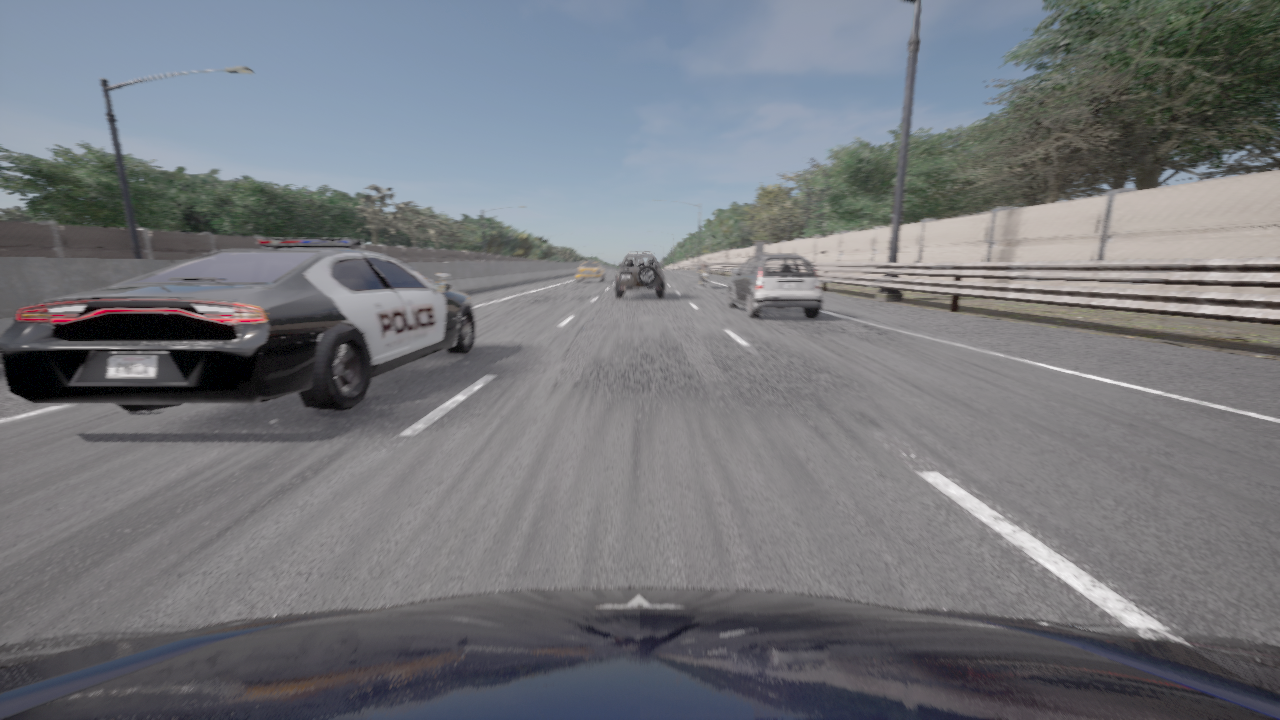cyclist: (0, 588, 1279, 719), (0, 239, 475, 411), (727, 254, 822, 318), (615, 251, 664, 297), (576, 260, 605, 282), (698, 267, 707, 287)
